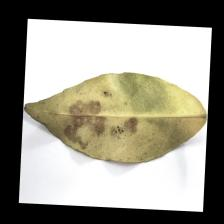black spot: (54, 96, 138, 143)
